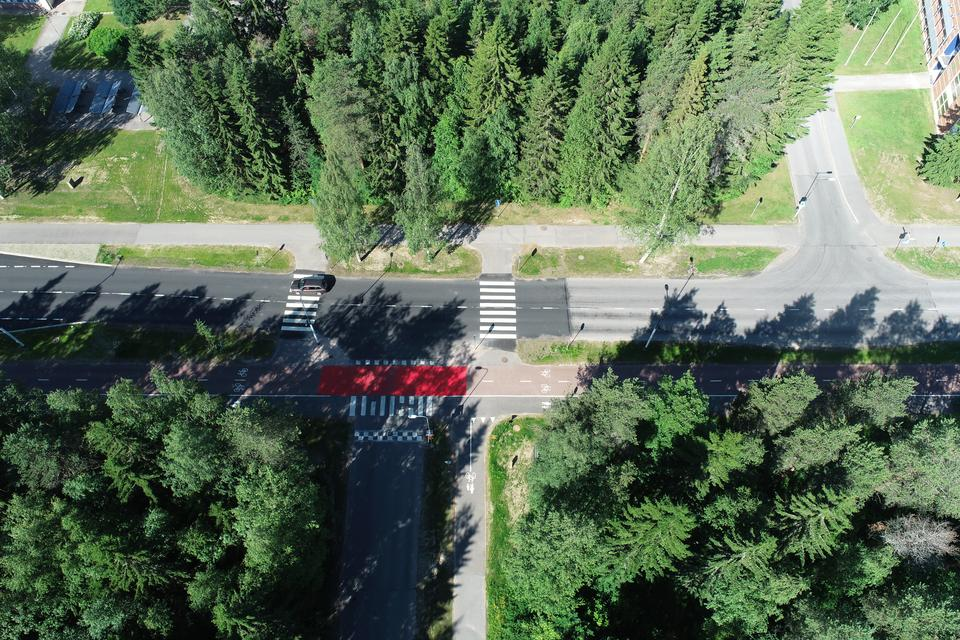intersection: (451, 229, 550, 388), (319, 393, 494, 467), (267, 216, 335, 380)
